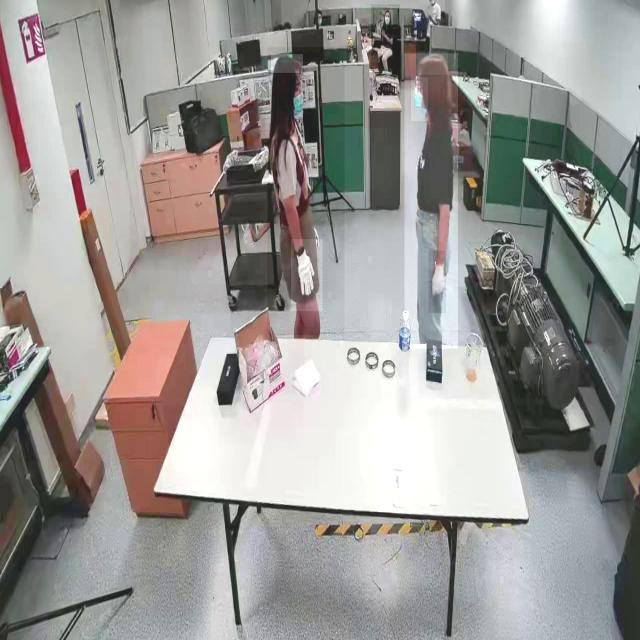face_mask: (288, 75, 310, 137), (411, 77, 428, 121)
hand_glove: (291, 239, 323, 312), (428, 250, 446, 314), (381, 10, 393, 26)
head_nohelmet: (416, 51, 448, 76), (271, 54, 303, 74), (384, 8, 390, 12)
person: (267, 47, 345, 336), (404, 53, 458, 350), (371, 5, 401, 101)
